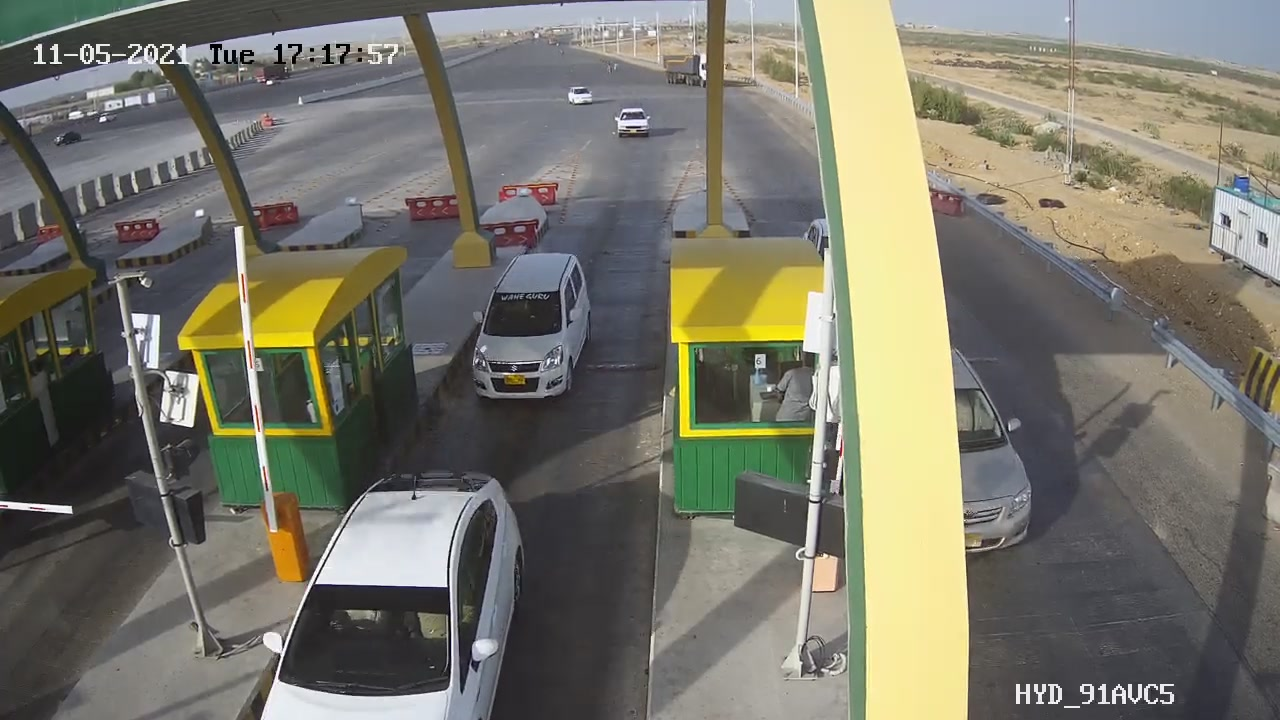F1: (453, 242, 609, 418)
